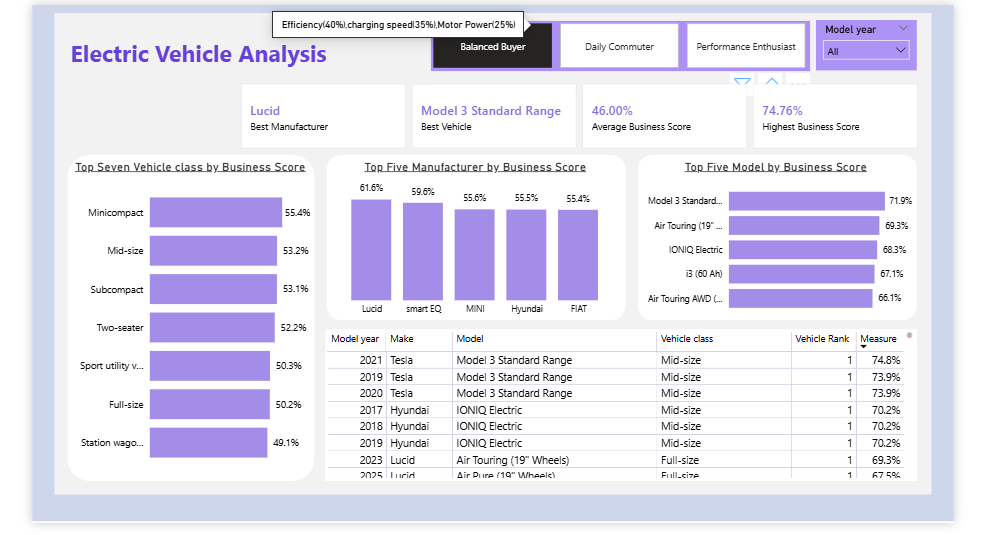

This screenshot's page, from the dashboard's own definition file:
{"tool":"powerbi","page":{"name":"dashboard","canvas":[1280,720],"ordinal":0},"visuals":[{"type":"advancedSlicerVisual","fields":{"Values":["Persona.Persona"]},"box":[552.9,21.4,528.6,71.4],"z":0},{"type":"slicer","fields":{"Values":["EV Energy Efficiency Dataset (2).Model year"]},"box":[1088.6,21.4,140,70],"z":1000},{"type":"cardVisual","fields":{"Data":["Persona.Best Manufacturer","Persona.Best Vehicle","Persona.Average Business Score","Persona.Highest Business Score"]},"box":[265,103.7,992.2,100.8],"z":3000},{"type":"barChart","title":"Top Seven Vehicle class by Business Score","fields":{"Category":["EV Energy Efficiency Dataset (2).Vehicle class"],"Y":["Persona.Measure"]},"box":[49,214.6,342.7,442.1],"z":4000},{"type":"lineStackedColumnComboChart","title":"Top Five Manufacturer by Business Score","fields":{"Category":["EV Energy Efficiency Dataset (2).Make"],"Y":["Persona.Measure"]},"box":[409.5,214.6,412,226.3],"z":5000},{"type":"tableEx","fields":{"Values":["EV Energy Efficiency Dataset (2).Model year","EV Energy Efficiency Dataset (2).Make","EV Energy Efficiency Dataset (2).Model","EV Energy Efficiency Dataset (2).Vehicle class","Persona.Vehicle Rank","Persona.Measure"]},"box":[404.6,449.3,823.7,211.7],"z":6000},{"type":"barChart","title":"Top Five Model by Business Score","fields":{"Y":["Persona.Measure"],"Category":["EV Energy Efficiency Dataset (2).Model"]},"box":[839.3,214.5,388.5,226.1],"z":7000},{"type":"textbox","box":[48.3,21.7,393.3,74],"z":8000}]}

Visuals, with their boxes on the page's 1280x720 design canvas (x1, y1, x2, y2). These are canvas units, not pixel positions in the 983x535 screenshot, which may show the page scaled, cropped or inside an application window:
advancedSlicerVisual - Persona.Persona: (x1=553, y1=21, x2=1082, y2=93)
slicer - EV Energy Efficiency Dataset (2).Model year: (x1=1089, y1=21, x2=1229, y2=91)
cardVisual - Persona.Best Manufacturer x Persona.Best Vehicle: (x1=265, y1=104, x2=1257, y2=204)
"Top Seven Vehicle class by Business Score" barChart: (x1=49, y1=215, x2=392, y2=657)
"Top Five Manufacturer by Business Score" lineStackedColumnComboChart: (x1=410, y1=215, x2=822, y2=441)
tableEx - EV Energy Efficiency Dataset (2).Model year x EV Energy Efficiency Dataset (2).Make: (x1=405, y1=449, x2=1228, y2=661)
"Top Five Model by Business Score" barChart: (x1=839, y1=214, x2=1228, y2=441)
textbox: (x1=48, y1=22, x2=442, y2=96)
